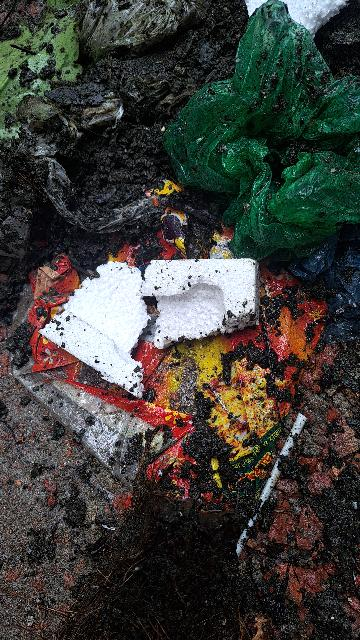cocksheet: (32, 229, 280, 411)
